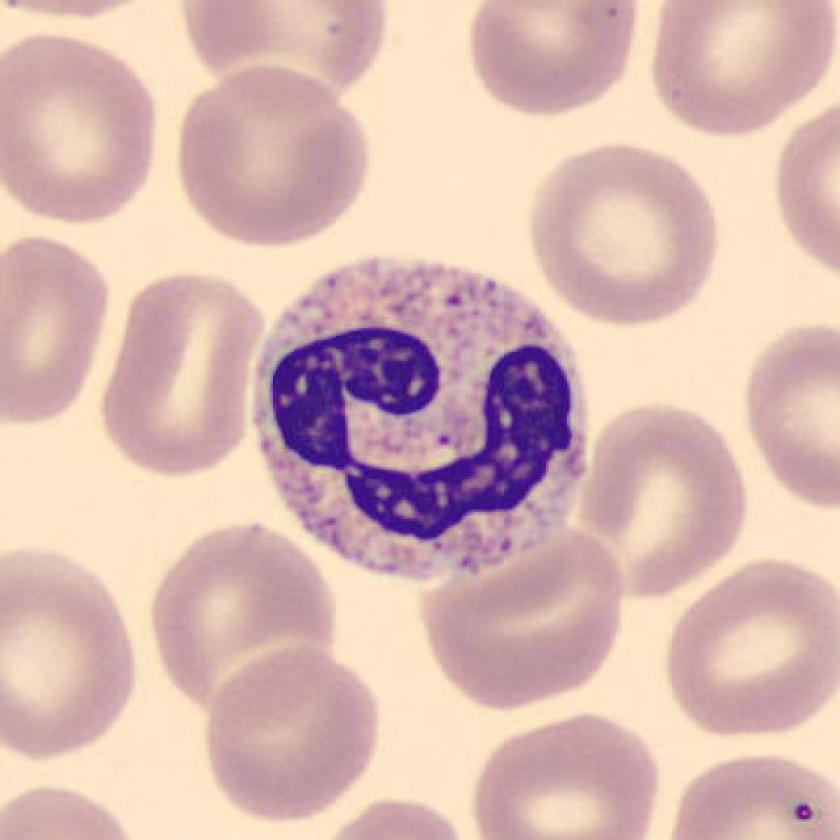neutrophil: (252, 260, 590, 579)
